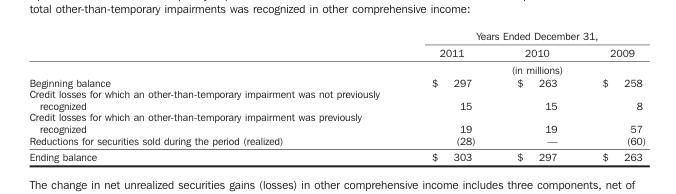table: (28, 29, 645, 162)
table column: (28, 29, 404, 162), (404, 29, 495, 162), (495, 29, 579, 162), (579, 29, 645, 162)
table column header: (28, 29, 645, 75)
table row: (28, 110, 645, 134), (28, 87, 645, 110), (28, 43, 645, 60), (28, 60, 645, 75), (28, 29, 645, 43), (28, 134, 645, 148), (28, 148, 645, 162), (28, 75, 645, 87)
table spanning cell: (404, 60, 645, 75), (404, 29, 645, 43)
